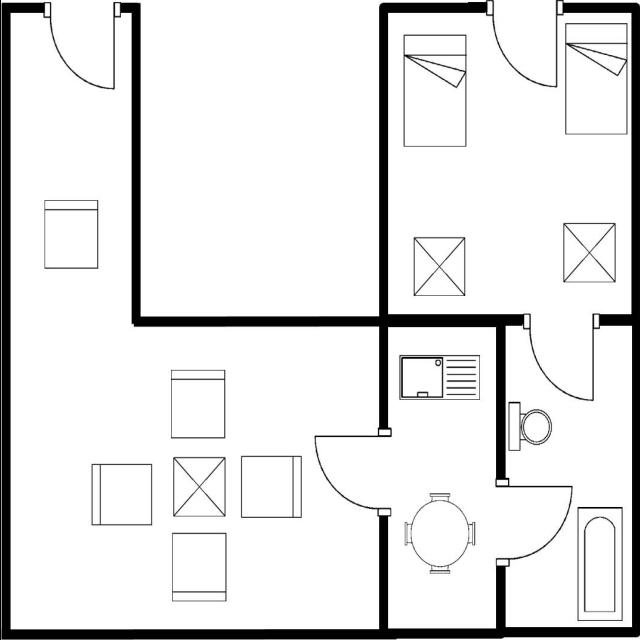bed: (400, 29, 470, 152), (561, 18, 629, 138)
coffee_table: (556, 216, 620, 288), (407, 229, 469, 301), (168, 450, 228, 520)
large_sink: (506, 396, 554, 460)
round_table: (400, 486, 480, 578)
sink: (396, 348, 484, 402)
small_sofa: (235, 450, 305, 524), (86, 458, 155, 533), (41, 192, 102, 276), (167, 528, 229, 606), (166, 364, 228, 442)
tub: (571, 501, 625, 624)
